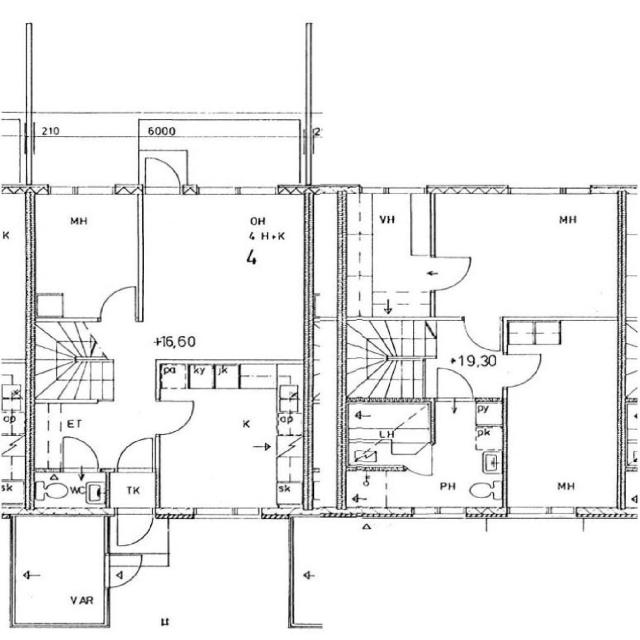door: (33, 438, 110, 516), (423, 248, 480, 295), (106, 504, 158, 553), (140, 152, 188, 200), (430, 362, 476, 410), (55, 433, 107, 475), (496, 348, 546, 390), (458, 312, 504, 356), (94, 280, 142, 322), (153, 395, 198, 437), (112, 432, 158, 473), (102, 553, 146, 592), (402, 454, 436, 480)
window: (186, 502, 270, 526), (504, 181, 594, 201), (194, 182, 284, 200), (504, 503, 582, 523), (407, 503, 465, 522), (60, 182, 117, 200), (195, 183, 242, 198), (354, 183, 396, 198)
zone: (141, 191, 314, 366), (430, 190, 630, 320), (502, 318, 628, 518), (154, 365, 303, 517), (30, 188, 144, 320), (343, 189, 435, 319), (10, 512, 109, 630), (433, 398, 506, 513), (341, 398, 436, 481), (29, 466, 114, 516), (0, 358, 32, 456)
